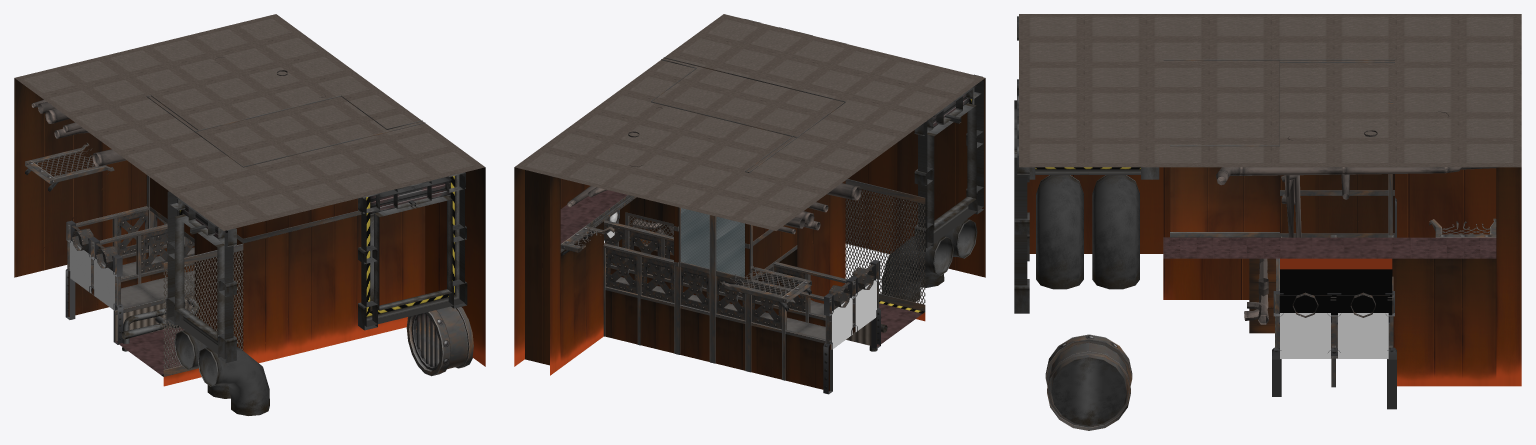
The model's file is molten_bellows_conveyorbelt.fbx.
3 renders of one model, left to right at view 1: azimuth 30°, elevation 25°; view 2: azimuth 150°, elevation 25°; view 3: azimuth 270°, elevation 25°, orthographic. The views are drawn at different scales.
Parts seen in each view (by area): view 1: Walls, UpperFloor, Portals, Pipes, UpperWalls, Floor, Bridge, Barriers, Cover; view 2: Walls, UpperWalls, UpperFloor, Barriers, Portals, Pipes, Floor, Bridge; view 3: Walls, UpperFloor, Pipes, UpperWalls, Portals, Plane, Bridge.
Boxes of the visible parts, <box> form: Walls: <box>14,14,485,376</box>; UpperFloor: <box>194,206,425,362</box>; Portals: <box>65,172,467,362</box>; Pipes: <box>31,57,473,415</box>; UpperWalls: <box>68,95,425,284</box>; Floor: <box>91,247,201,386</box>; Bridge: <box>25,142,114,191</box>; Barriers: <box>68,244,194,316</box>; Cover: <box>411,313,440,370</box>; Walls: <box>514,14,985,375</box>; UpperWalls: <box>603,57,855,380</box>; UpperFloor: <box>560,180,845,367</box>; Barriers: <box>605,265,855,391</box>; Portals: <box>604,19,983,394</box>; Pipes: <box>567,107,977,351</box>; Floor: <box>611,274,925,346</box>; Bridge: <box>560,226,811,310</box>; Walls: <box>1019,14,1521,386</box>; UpperFloor: <box>1163,167,1496,386</box>; Pipes: <box>1036,111,1496,430</box>; UpperWalls: <box>1163,59,1394,387</box>; Portals: <box>1014,16,1396,409</box>; Plane: <box>1280,269,1392,315</box>; Bridge: <box>1429,218,1496,237</box>.
Size of the model in its own units: 3678 by 2898 by 5010.
